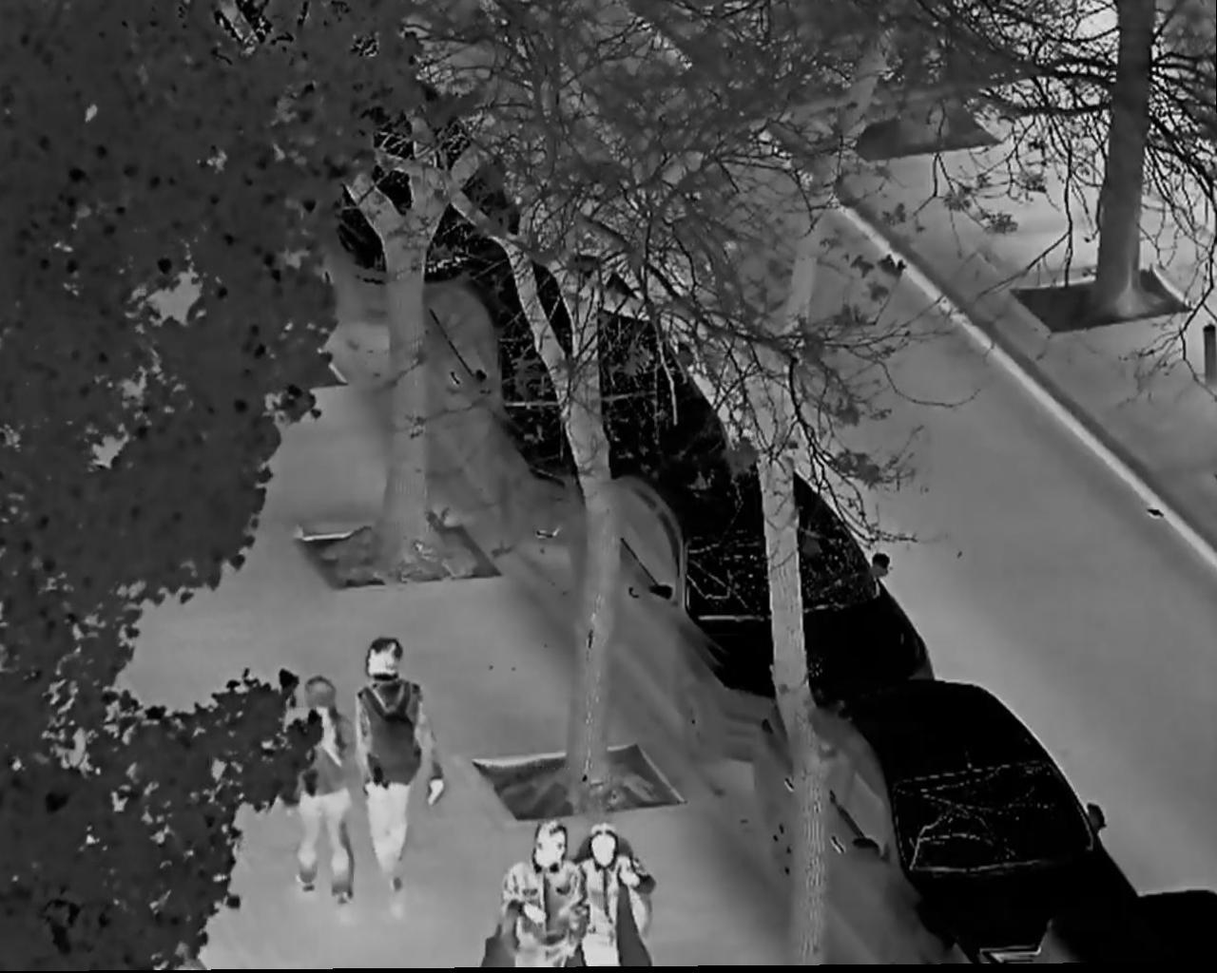person: (354, 641, 446, 887), (283, 676, 358, 905), (500, 822, 587, 973), (574, 823, 653, 973)
